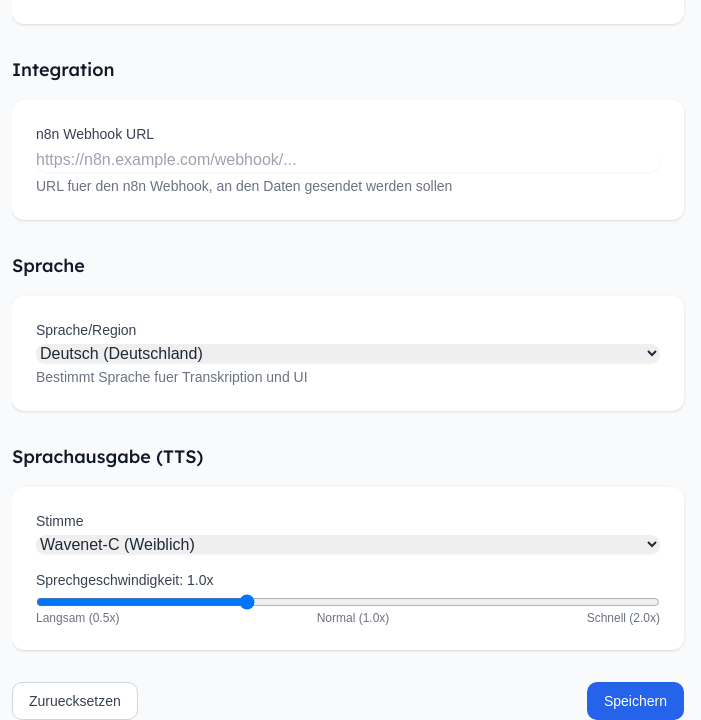
Test: Settings Page › Form Submission › should validate API key is not empty when saving
The image size is (701, 720).
(page scrolled)
Click the button "Speichern": (636, 701) left=587, top=682, right=684, bottom=719
(page scrolled)
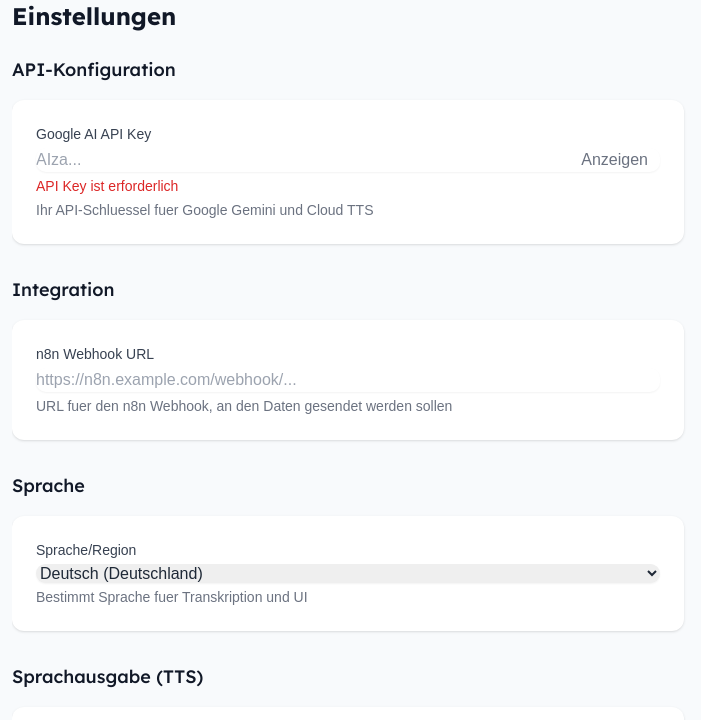
Expected: the text "API Key ist erforderlich" is shown, left=36, top=178, right=178, bottom=194
